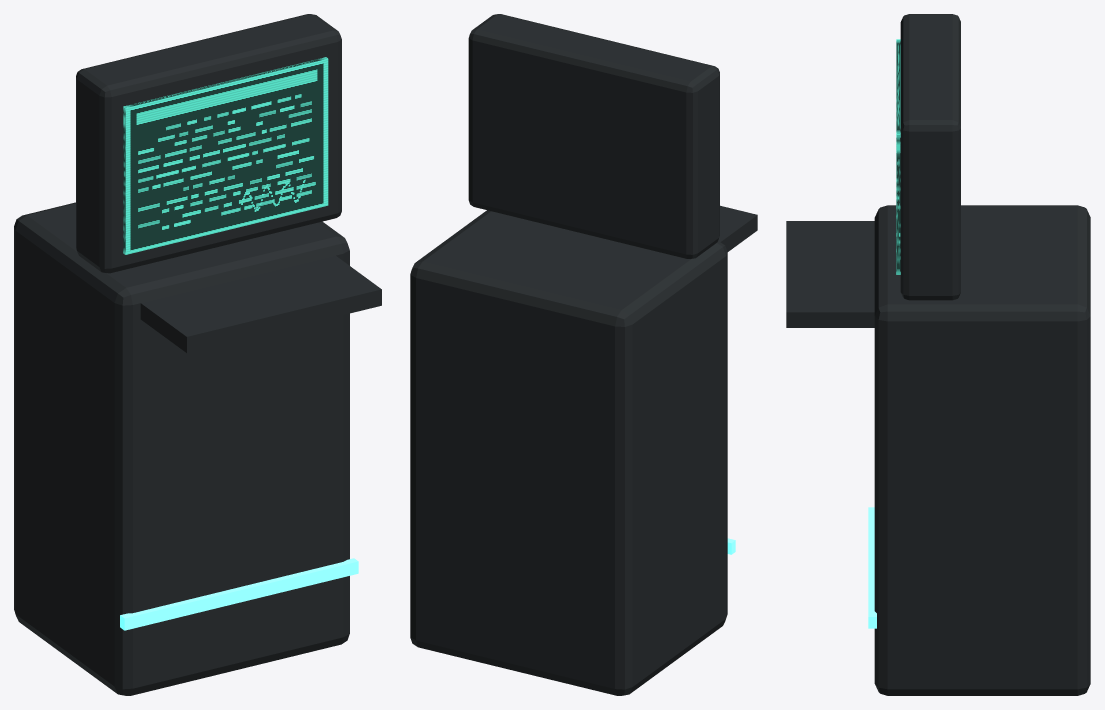
The model's file is terminal.glb.
3 views of the same model, side by side, from view 1: azimuth 30°, elevation 25°; view 2: azimuth 150°, elevation 25°; view 3: azimuth 270°, elevation 25° (orthographic). The views are drawn at different scales.
Visible parts, largest first — view 1: terminal; view 2: terminal; view 3: terminal.
Boxes of the visible parts, x1,y1,x2,y2 form: terminal: (14,14,381,695); terminal: (410,14,757,695); terminal: (786,14,1090,695).
Size of the model in its own units: 0.62 by 1.48 by 0.705.
3 materials, 1 textured.
